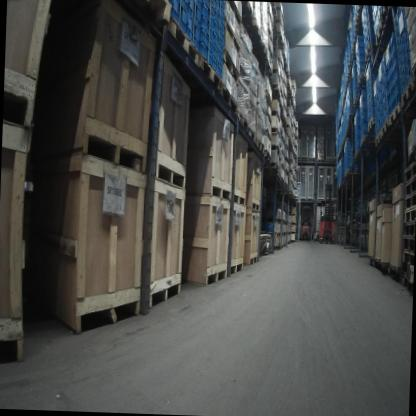forklift: (318, 183, 336, 246), (300, 206, 312, 242)
pallet: (82, 121, 149, 177), (75, 293, 141, 336), (3, 68, 38, 128), (168, 14, 202, 67), (148, 273, 182, 316), (155, 149, 187, 190), (0, 317, 27, 364), (198, 53, 223, 91), (222, 47, 240, 85), (224, 17, 242, 55), (219, 82, 239, 116), (144, 0, 172, 23), (205, 262, 228, 288), (400, 77, 415, 113), (210, 178, 232, 202), (226, 1, 243, 27), (388, 101, 401, 127), (404, 159, 416, 186), (375, 20, 385, 48), (405, 173, 416, 198), (252, 18, 263, 43), (401, 236, 415, 254), (231, 257, 244, 276), (403, 221, 416, 239), (234, 188, 247, 206), (404, 206, 416, 225), (404, 191, 416, 209), (402, 250, 415, 266), (381, 116, 390, 138), (243, 1, 254, 19), (239, 115, 249, 134), (404, 265, 414, 283), (260, 40, 268, 62), (360, 135, 374, 147), (247, 126, 256, 144), (255, 137, 265, 153), (411, 52, 416, 83), (344, 169, 361, 178), (251, 197, 261, 212), (270, 144, 280, 159), (267, 8, 274, 29), (265, 62, 273, 80), (375, 132, 383, 149), (272, 83, 281, 98), (367, 117, 375, 132), (271, 110, 281, 122), (365, 44, 371, 63), (250, 251, 258, 265), (271, 127, 280, 139), (267, 25, 273, 43), (267, 43, 274, 58), (264, 151, 272, 164), (271, 162, 280, 173), (357, 74, 364, 88), (268, 219, 281, 224), (353, 96, 358, 109), (268, 232, 280, 237), (354, 149, 359, 159), (280, 178, 285, 185), (325, 159, 333, 163), (274, 245, 279, 251), (277, 173, 281, 180), (301, 158, 308, 162), (316, 159, 324, 162), (284, 183, 288, 189), (308, 159, 315, 162), (291, 231, 296, 235), (292, 213, 296, 217), (292, 222, 296, 225), (291, 240, 295, 243)
small_load_carrier: (169, 0, 188, 32), (185, 15, 200, 47), (187, 0, 202, 29), (385, 31, 397, 66), (386, 64, 399, 95), (387, 79, 400, 109), (386, 51, 398, 83), (210, 51, 223, 77), (200, 15, 213, 39), (198, 41, 212, 63), (214, 0, 226, 25), (211, 42, 224, 65), (201, 3, 214, 25), (200, 28, 213, 50), (213, 20, 225, 43), (214, 7, 225, 32), (212, 30, 224, 50), (201, 0, 214, 16), (380, 52, 387, 77), (177, 0, 188, 13), (215, 1, 226, 14), (381, 76, 387, 93), (383, 87, 389, 104), (194, 0, 202, 12), (384, 99, 389, 117), (380, 107, 385, 121), (380, 100, 385, 112)
